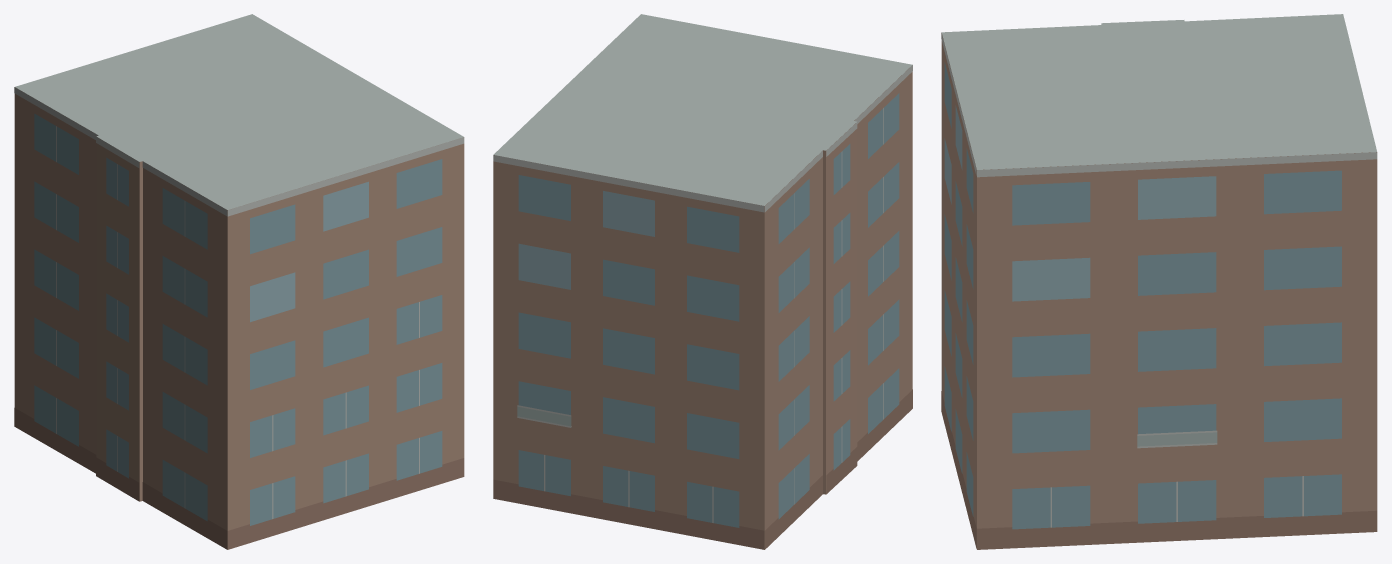
The model's file is survey-upis-32921355.glb.
3 renders of one model, left to right at view 1: azimuth 30°, elevation 25°; view 2: azimuth 150°, elevation 25°; view 3: azimuth 270°, elevation 25°, orthographic. The views are drawn at different scales.
Parts seen in each view (by area): view 1: survey-upis-32921355.tmp; view 2: survey-upis-32921355.tmp; view 3: survey-upis-32921355.tmp.
Part boxes in pixels (x1,y1,x2,y2): survey-upis-32921355.tmp: (14, 14, 464, 549); survey-upis-32921355.tmp: (493, 14, 912, 549); survey-upis-32921355.tmp: (941, 14, 1377, 549).
Size of the model in its own units: 11.29 by 12.8 by 13.32.
